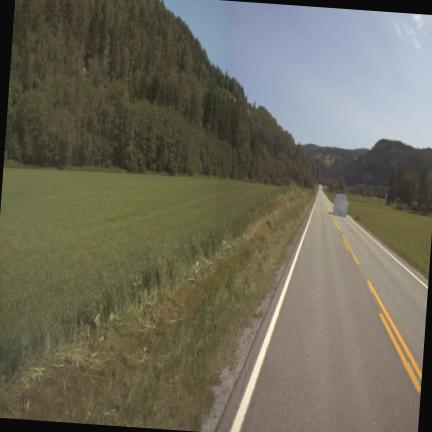Road: (219, 187, 427, 431)
